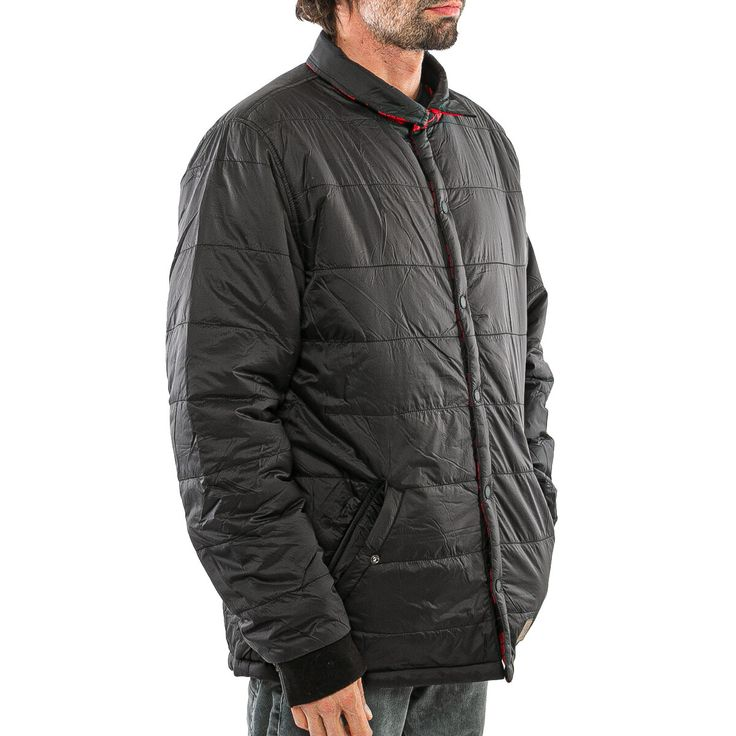nylon: (164, 29, 560, 705)
